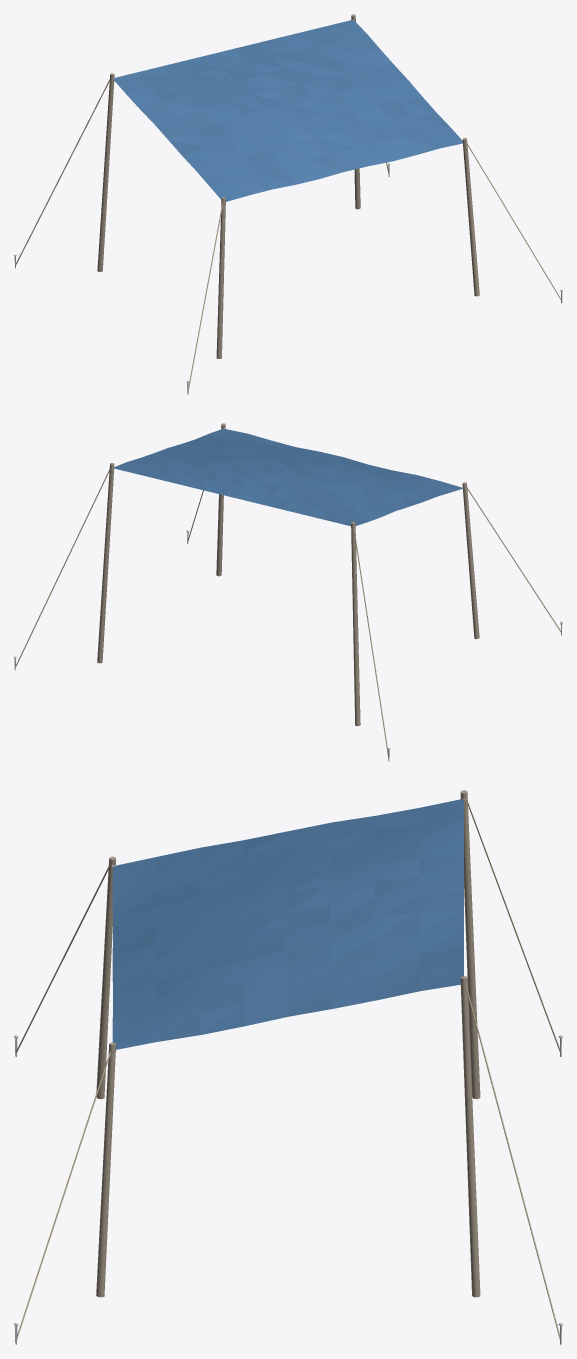
File: camp_tarp_a.glb
3 renders of one model, top to bottom at view 1: azimuth 30°, elevation 25°; view 2: azimuth 150°, elevation 25°; view 3: azimuth 270°, elevation 25°, orthographic. The views are drawn at different scales.
Visible parts, largest first — view 1: body; view 2: body; view 3: body.
Boxes of the visible parts, x1,y1,x2,y2 form: body: [14, 14, 562, 394]; body: [14, 423, 562, 761]; body: [14, 790, 562, 1344].
Bounding box in the file's own units: 4.68 × 2.38 × 3.75.
